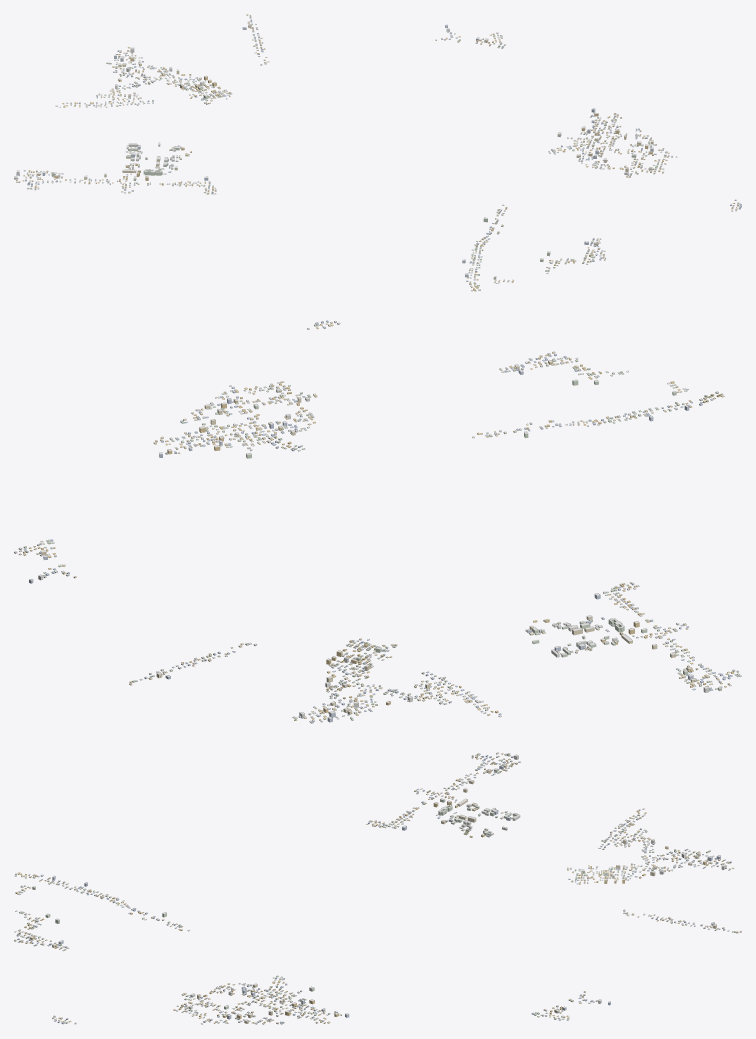
The picture shows the model from 3 angles, top to bottom: view 1: azimuth 30°, elevation 25°; view 2: azimuth 150°, elevation 25°; view 3: azimuth 270°, elevation 25°; orthographic projection. The views are drawn at different scales.
Visible parts, largest first — view 1: house, roof_zinc, apartment, roof_flat; view 2: house, roof_zinc, apartment, roof_flat; view 3: house, roof_zinc, apartment, roof_flat.
Part boxes in pixels (x1,y1,x2,y2): house: (16, 14, 741, 291); roof_zinc: (16, 14, 741, 291); apartment: (14, 24, 653, 279); roof_flat: (14, 24, 653, 277); house: (14, 320, 741, 723); roof_zinc: (15, 320, 741, 722); apartment: (29, 360, 721, 722); roof_flat: (30, 360, 721, 718); house: (14, 752, 741, 1024); roof_zinc: (15, 752, 741, 1023); apartment: (30, 753, 725, 1023); roof_flat: (30, 753, 725, 1021).
Bounding box in the file's own units: 1.2e+08 × 729510 × 1.36e+08.
